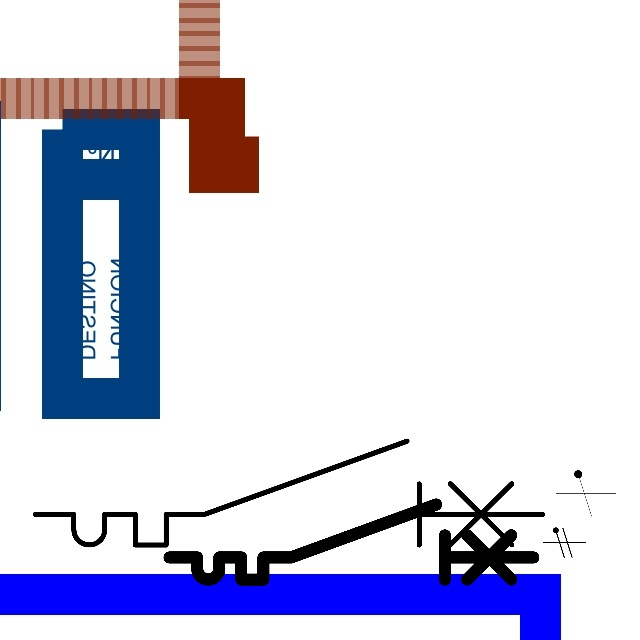interruptor_termomagnetico: (22, 428, 555, 558), (160, 495, 543, 589)
